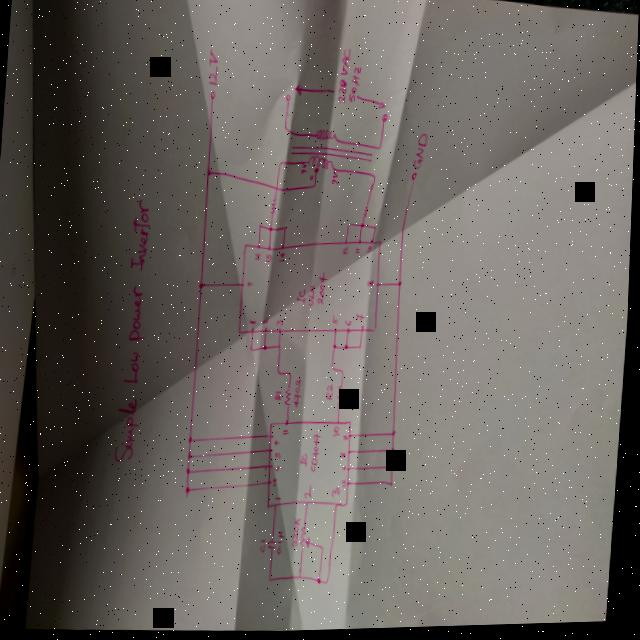capacitor: (271, 539, 281, 551)
crossover: (276, 186, 280, 192)
junction: (187, 486, 194, 499), (190, 451, 195, 459), (200, 282, 205, 290), (392, 464, 397, 472), (320, 578, 325, 586), (189, 468, 194, 475), (393, 448, 398, 455), (394, 431, 399, 438), (191, 436, 195, 444), (208, 169, 212, 177), (335, 344, 339, 352), (372, 175, 377, 181), (265, 345, 269, 352), (400, 281, 404, 288), (283, 126, 288, 131), (301, 575, 306, 580), (343, 370, 347, 376), (333, 367, 337, 373), (347, 345, 351, 351), (362, 223, 366, 229), (279, 161, 283, 167), (393, 482, 397, 488), (270, 227, 274, 233), (313, 185, 317, 190), (280, 345, 284, 350), (279, 372, 283, 377), (361, 346, 364, 352), (260, 224, 263, 230), (378, 148, 382, 152), (251, 348, 255, 352), (291, 373, 295, 377), (329, 581, 333, 585), (324, 547, 328, 551), (272, 578, 276, 582), (284, 227, 288, 231), (375, 227, 378, 231), (349, 225, 352, 229)
resistor: (303, 526, 315, 553), (286, 387, 295, 409), (270, 196, 278, 217), (339, 386, 347, 406), (363, 205, 371, 222)
terminal: (381, 114, 389, 126), (411, 173, 418, 183), (285, 94, 292, 104), (210, 90, 216, 101)
text: (115, 198, 158, 464), (337, 49, 352, 106), (413, 133, 429, 172), (206, 48, 220, 87), (349, 68, 362, 104), (313, 434, 324, 474), (318, 272, 330, 306), (295, 378, 305, 409), (295, 518, 305, 548), (279, 531, 289, 556), (346, 389, 356, 412), (327, 384, 337, 402), (297, 289, 308, 305), (331, 171, 341, 187), (310, 286, 317, 308), (307, 485, 316, 501), (263, 538, 270, 555), (303, 454, 311, 468), (357, 314, 367, 324), (277, 390, 285, 402), (335, 488, 343, 500), (335, 427, 343, 439), (280, 253, 288, 264), (264, 316, 271, 327), (302, 164, 308, 176), (334, 315, 340, 327), (267, 254, 274, 264), (277, 320, 285, 328), (368, 281, 376, 289), (346, 321, 354, 329), (255, 253, 262, 262), (343, 247, 350, 256), (275, 478, 281, 488), (277, 453, 284, 461), (285, 429, 292, 437), (345, 436, 352, 444), (250, 320, 259, 326), (368, 246, 374, 254), (277, 439, 283, 447), (343, 452, 349, 460), (344, 480, 349, 489), (249, 282, 255, 289), (277, 466, 283, 473), (344, 467, 351, 473), (356, 249, 362, 255), (278, 497, 285, 502), (310, 176, 315, 182)
transformer: (289, 127, 375, 179)
